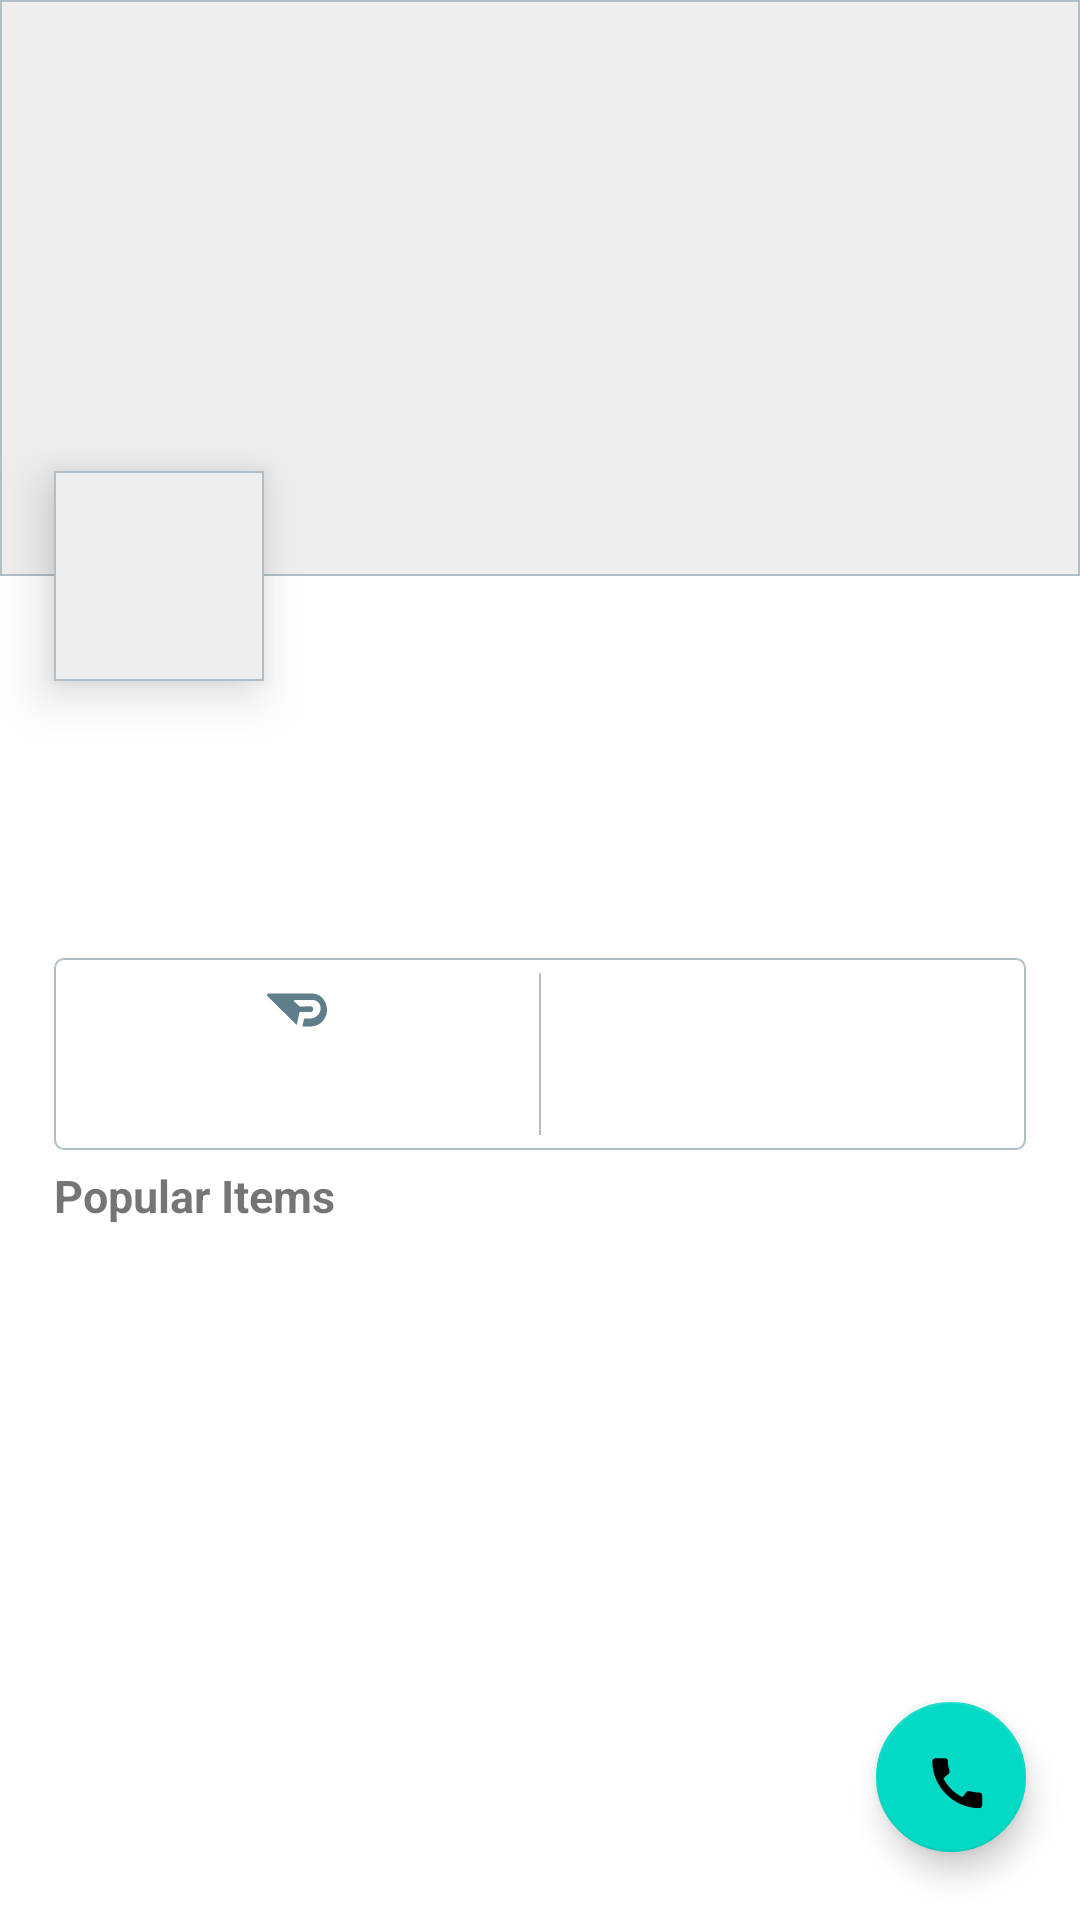

Where icons sit on this 1080 x 1920 app screen, as [x1, y1, x2, y2]:
call: [876, 1702, 1026, 1852]
